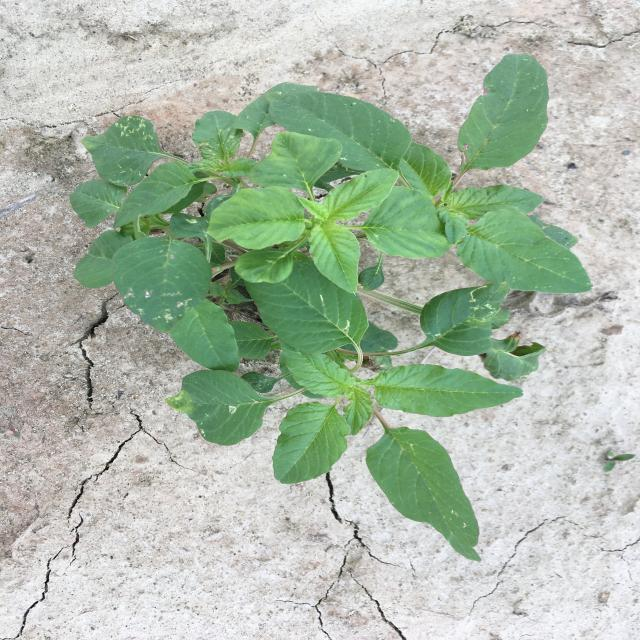PalmerAmaranth: (69, 53, 593, 562)
